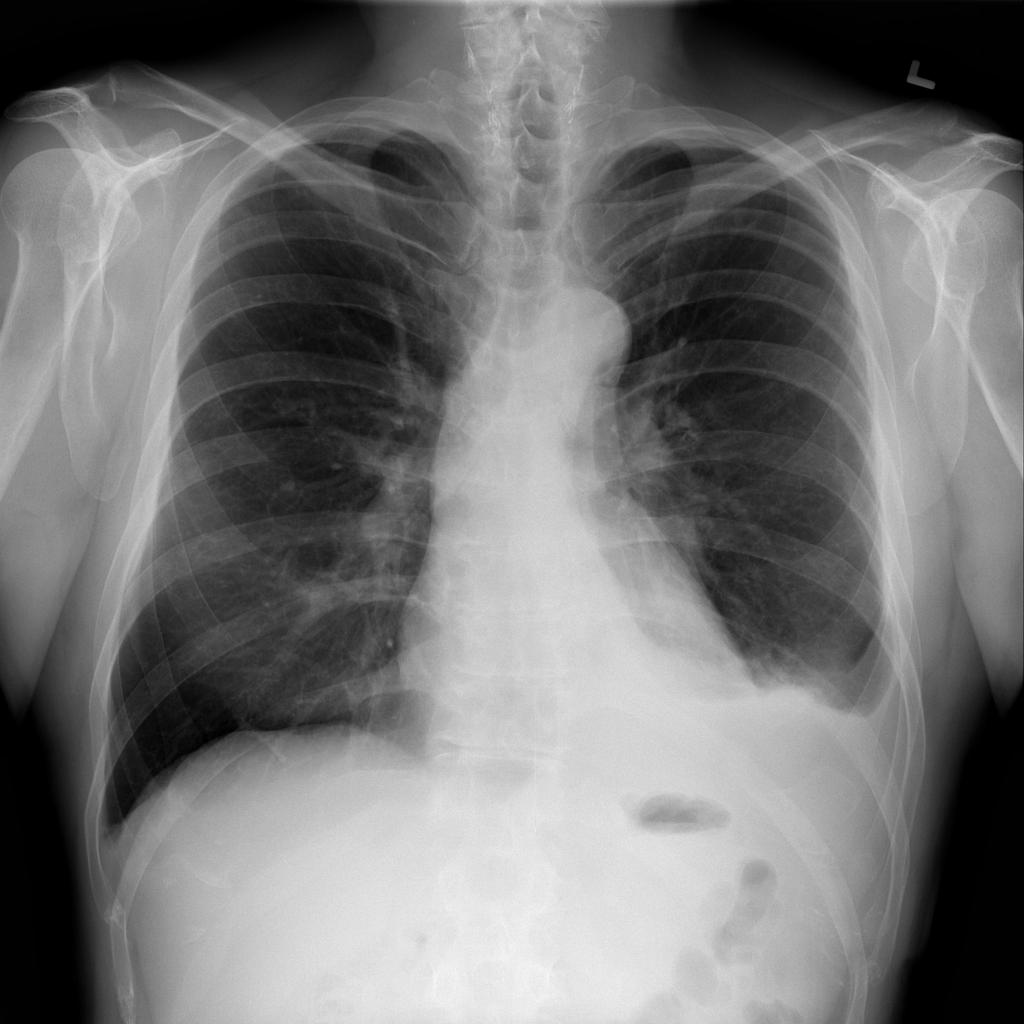nodule: (269, 469, 309, 507)
